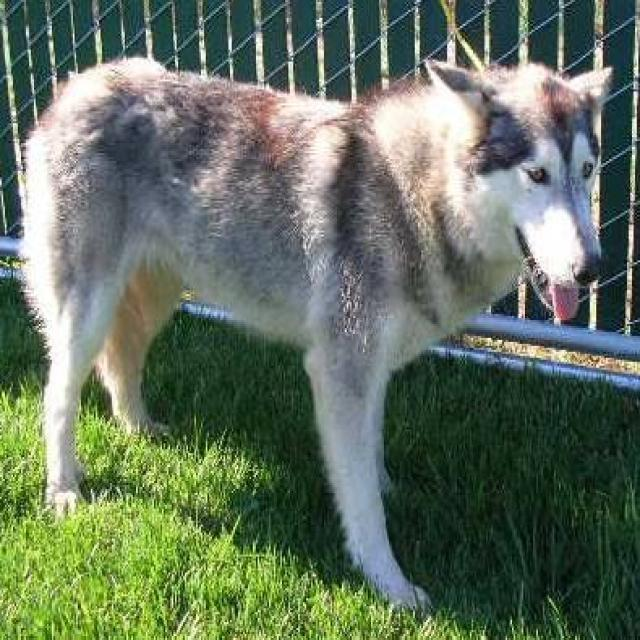dog: (18, 50, 614, 616)
